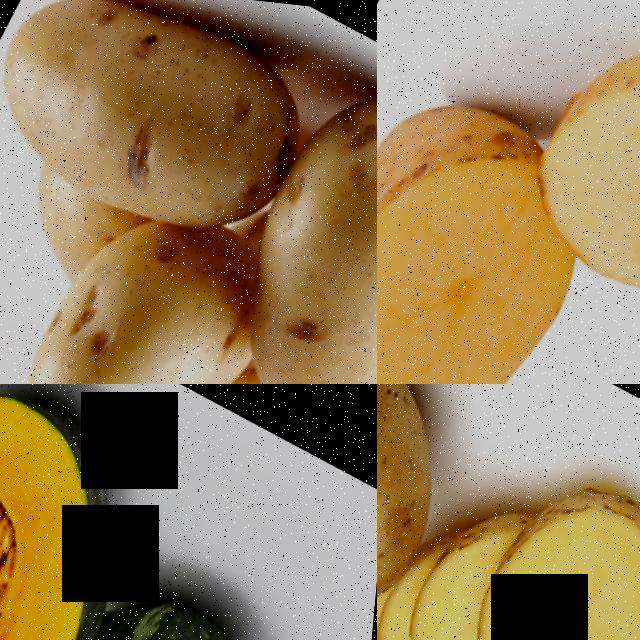potato: (0, 0, 338, 271), (377, 50, 573, 384), (203, 56, 377, 384), (389, 413, 640, 640), (0, 204, 281, 384), (377, 384, 494, 619)
pumpkin: (0, 384, 190, 640), (0, 543, 352, 640)
